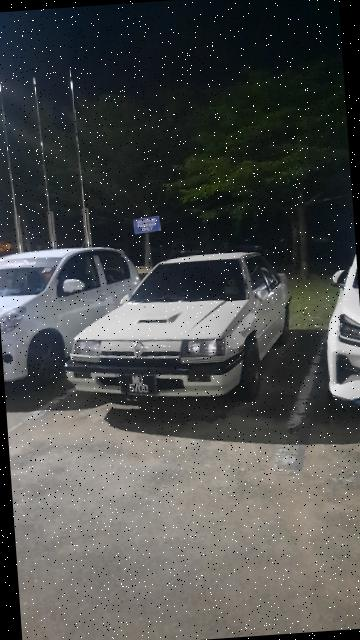License_Plate: (114, 367, 163, 402)
car: (62, 246, 302, 415)
